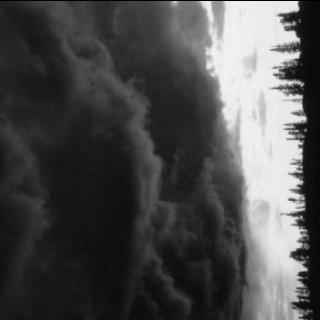Nimbostratus: (0, 0, 273, 320)
